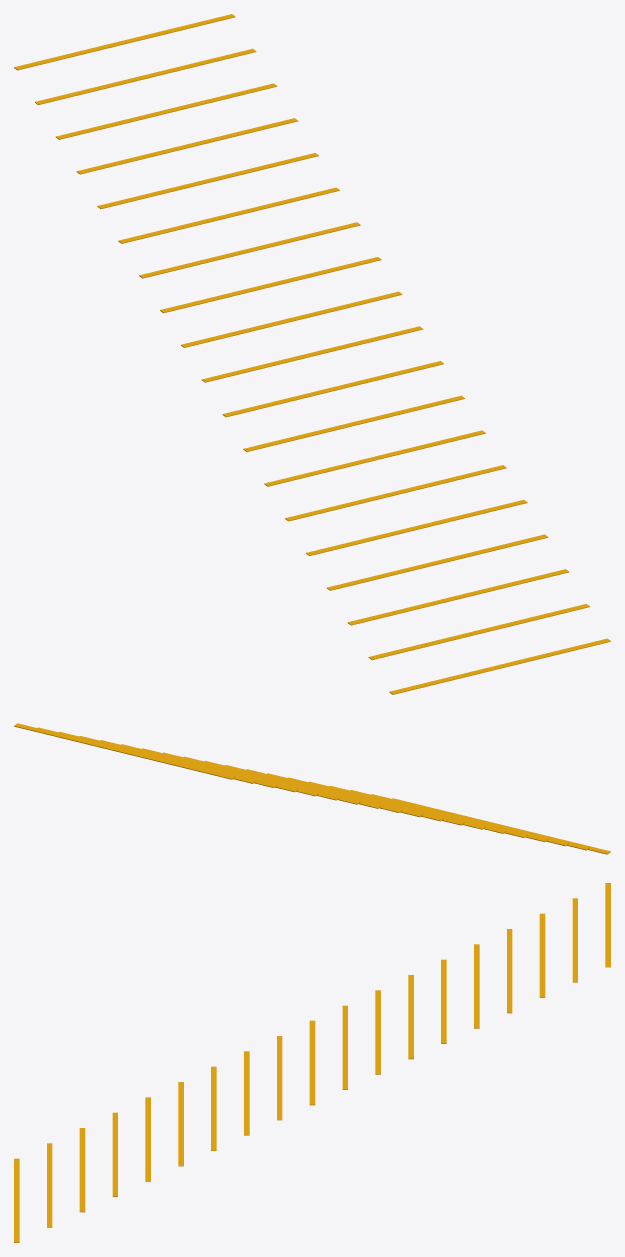
Rendered from gteki_ik_stair_n19_r166_t323_w1966_nosing.glb.
3 renders of one model, top to bottom at view 1: azimuth 30°, elevation 25°; view 2: azimuth 150°, elevation 25°; view 3: azimuth 270°, elevation 25°, orthographic. The views are drawn at different scales.
Parts seen in each view (by area): view 1: VIS_body; view 2: VIS_body; view 3: VIS_body.
Boxes of the visible parts, <box> form: VIS_body: <box>14,14,610,694</box>; VIS_body: <box>14,723,610,854</box>; VIS_body: <box>14,883,610,1242</box>.
Size of the model in its own units: 1.95 by 2.99 by 5.87.
Materials: 1 (1 with a texture image).
